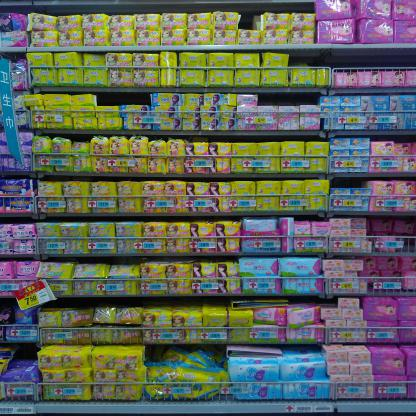Void: (291, 52, 414, 70), (259, 94, 318, 106), (100, 90, 147, 105), (240, 14, 258, 30), (149, 346, 166, 361), (331, 177, 361, 185), (18, 343, 35, 357)
